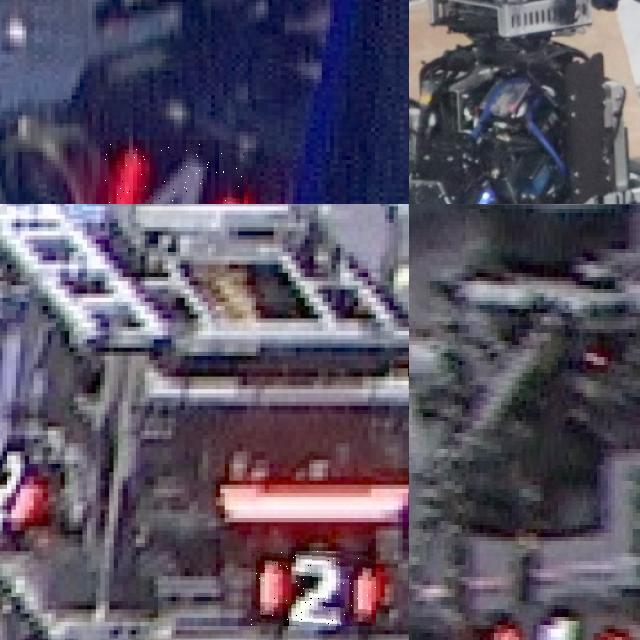R1: (474, 607, 623, 640)
R2: (251, 547, 376, 626)
R4: (104, 139, 243, 204)
